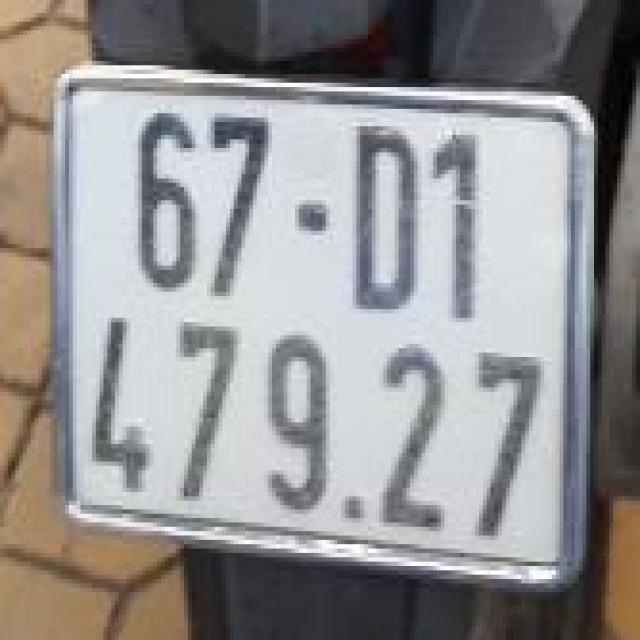1: (429, 115, 498, 333)
2: (364, 328, 468, 550)
4: (78, 296, 166, 501)
6: (117, 100, 205, 301)
7: (163, 307, 239, 512), (468, 337, 544, 542), (203, 113, 280, 305)
9: (249, 318, 337, 522)
D: (343, 107, 420, 320)
